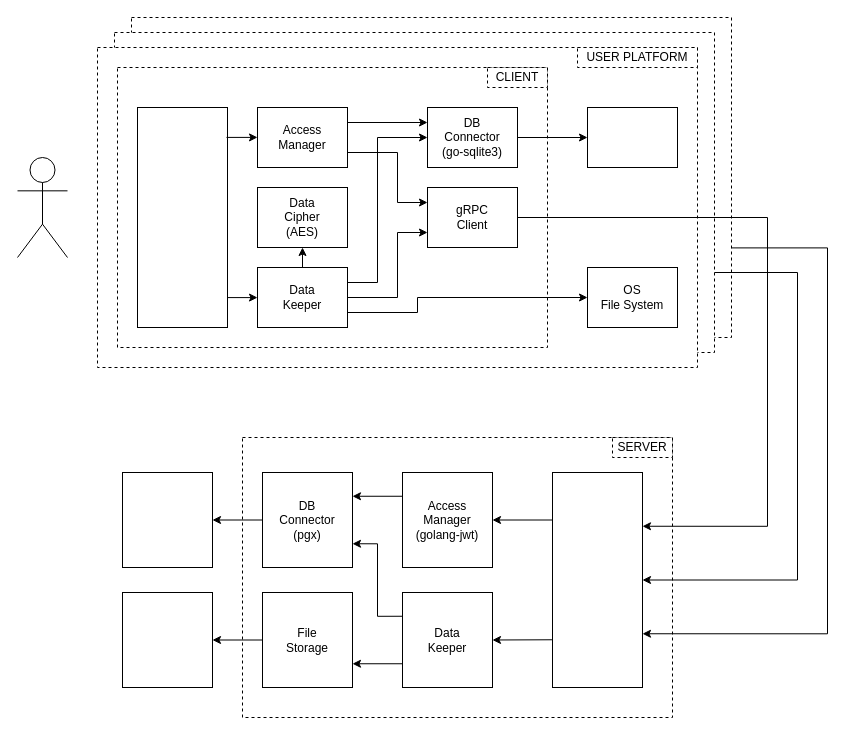
Some shapes in this 853 by 735 pixel diagram are drawn without their labels. The shapes that lost their labels are listed below. From the top down, each one's centre as x and y in pixels, then its label:
At pixel 632 137: "SQLite".
At pixel 42 207: "User".
At pixel 182 217: "CLI Commands (cobra)".
At pixel 167 520: "PostgreSQL".
At pixel 597 580: "gRPC Server".
At pixel 167 640: "OS File System (or External Storage)".
